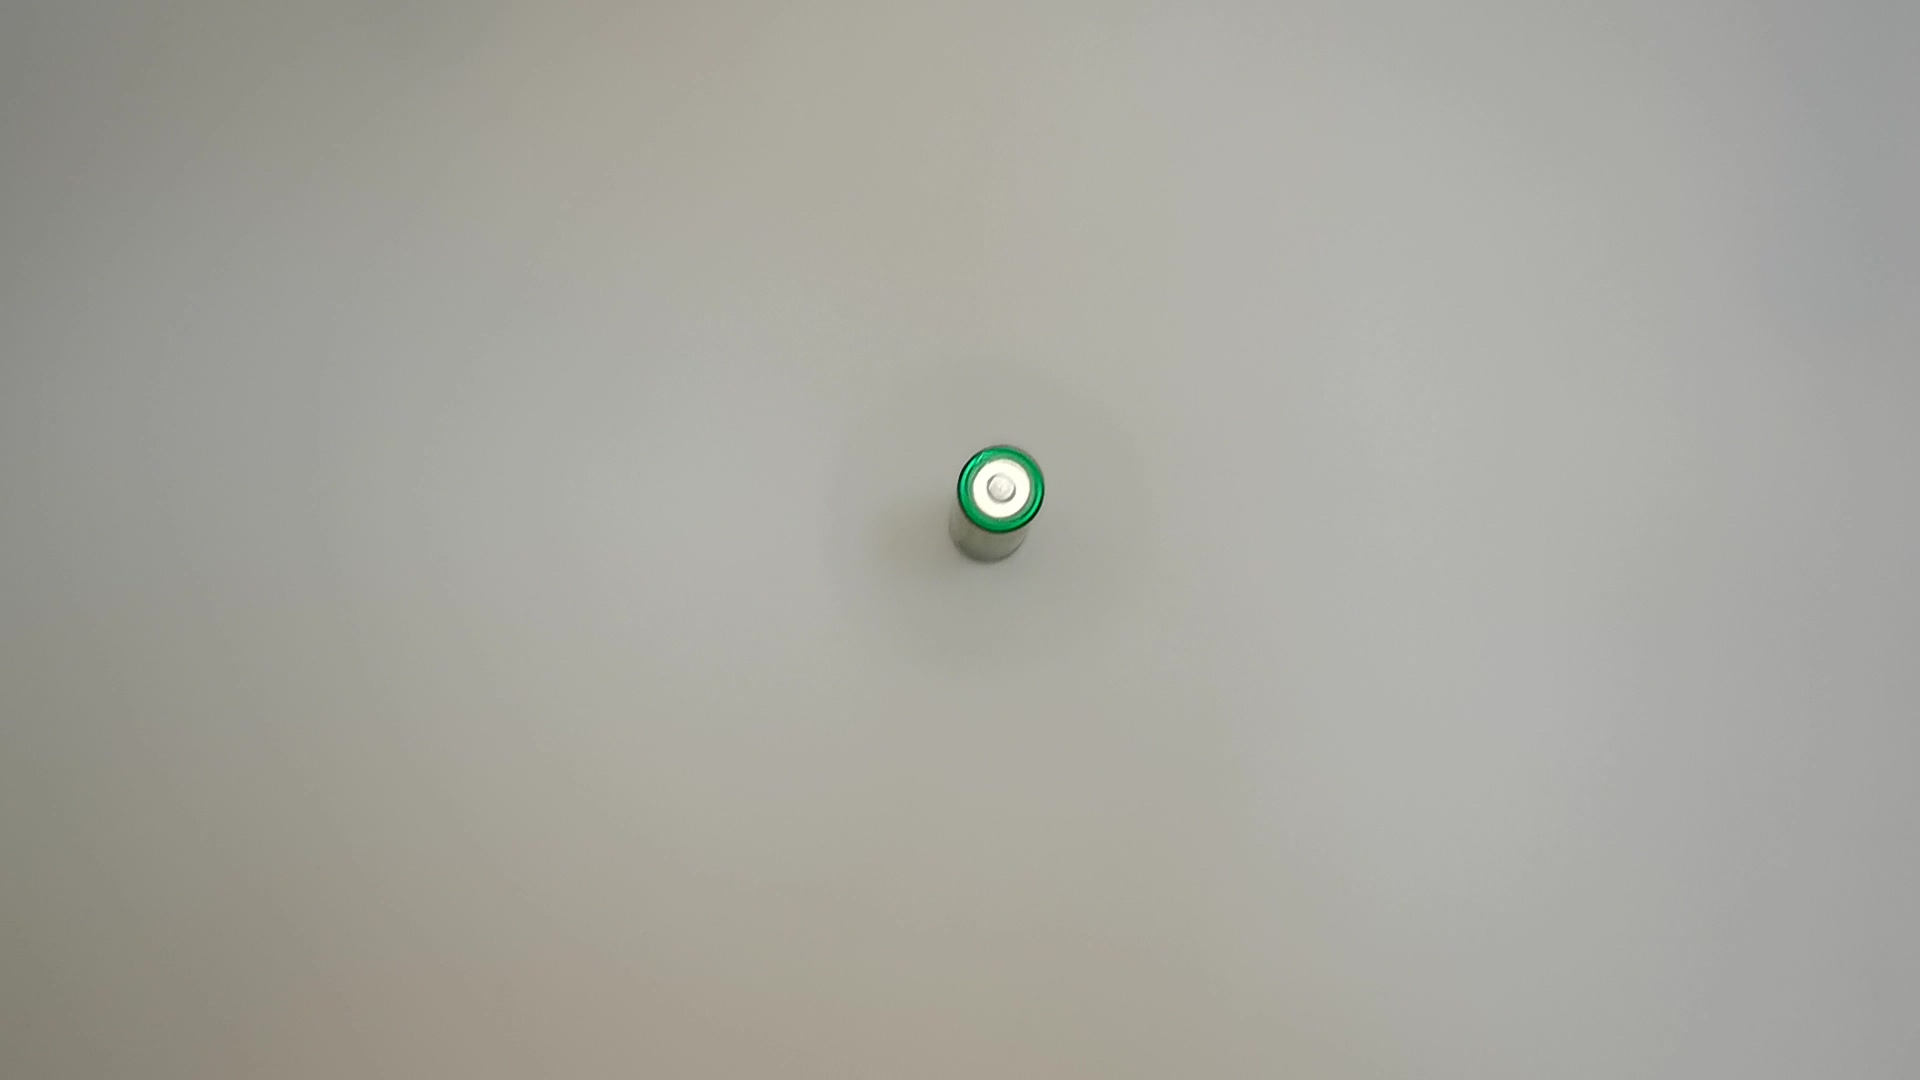battery: (940, 443, 1054, 580)
